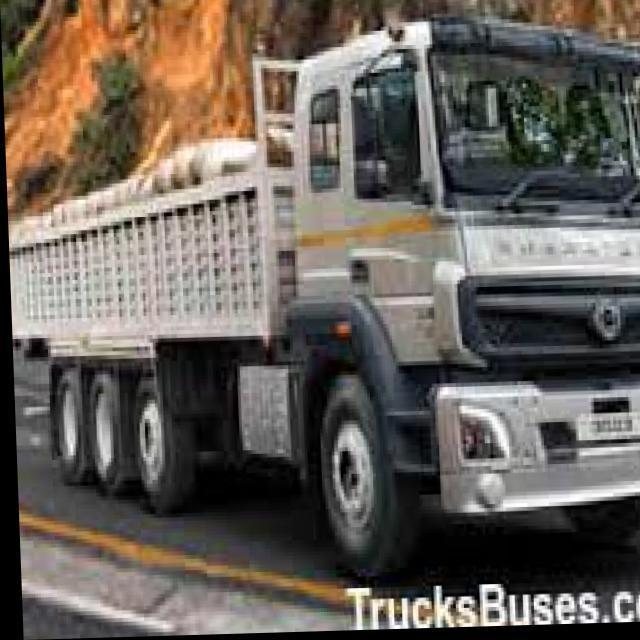uncovered: (1, 19, 640, 572)
